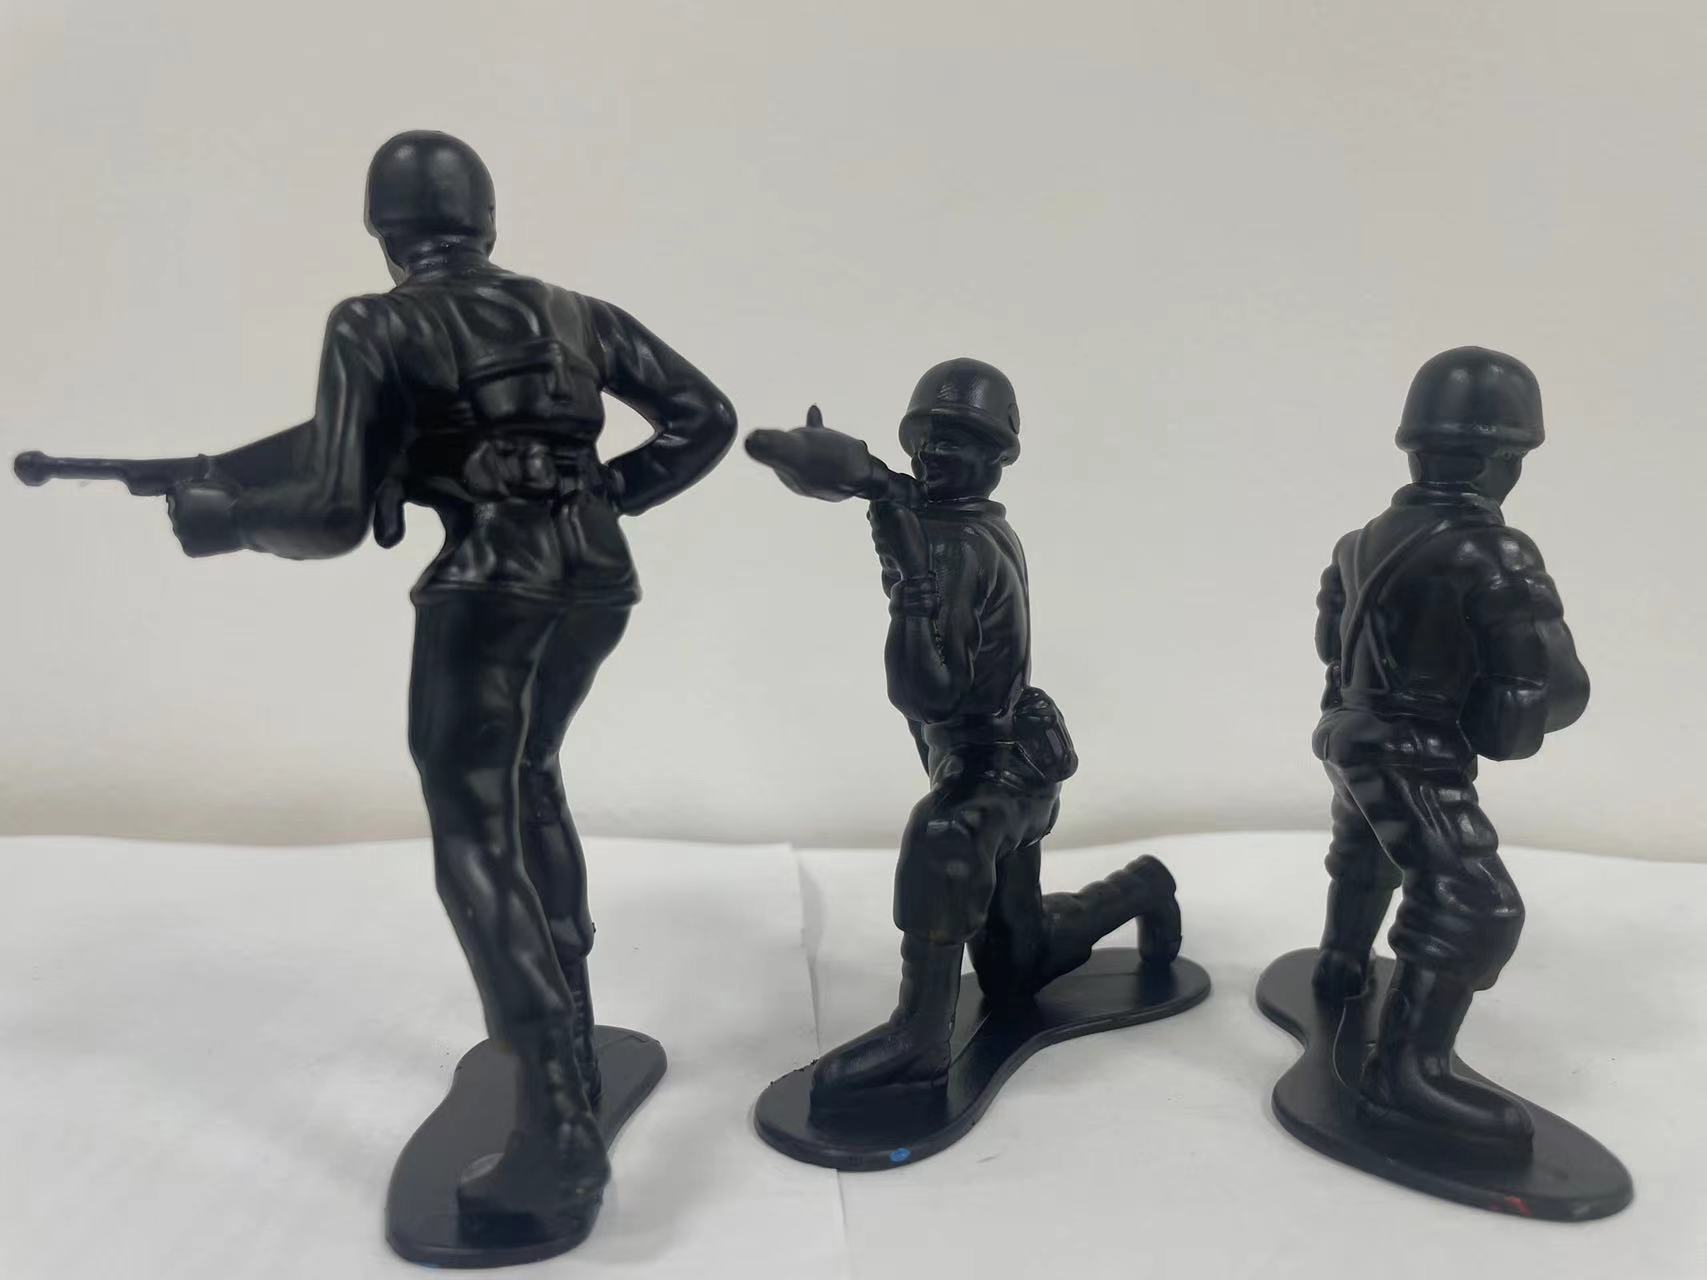black: (56, 95, 722, 1271), (733, 321, 1224, 1224), (1245, 311, 1655, 1249)
